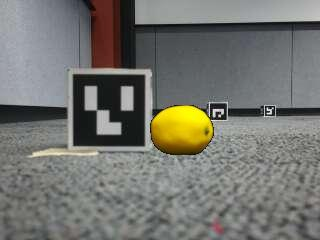lemon: (150, 107, 212, 155)
